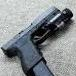gun: (1, 1, 76, 76)
